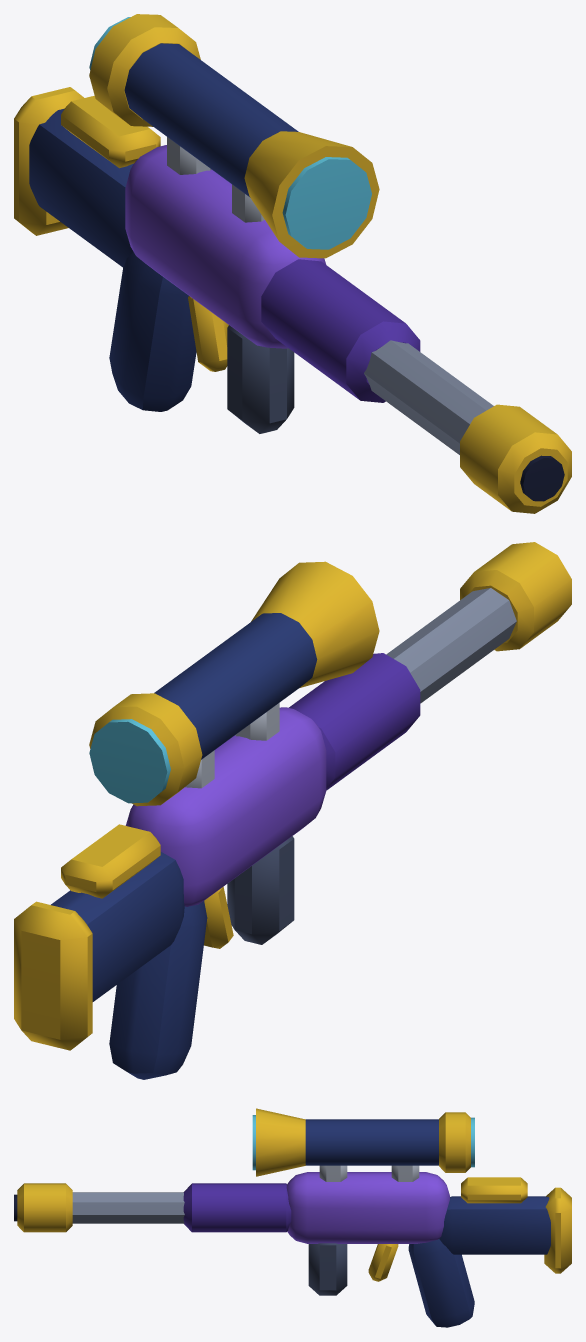
Rendered from w_y_rifle.glb.
3 views of the same model, one above another, from view 1: azimuth 30°, elevation 25°; view 2: azimuth 150°, elevation 25°; view 3: azimuth 270°, elevation 25° (orthographic). The views are drawn at different scales.
Visible parts, largest first — view 1: body; view 2: body; view 3: body.
Part boxes in pixels (x1,y1,x2,y2): body: (14,14,571,513); body: (14,542,571,1079); body: (14,1108,571,1327).
Size of the model in its own units: 0.1612 by 0.5548 by 1.31.
